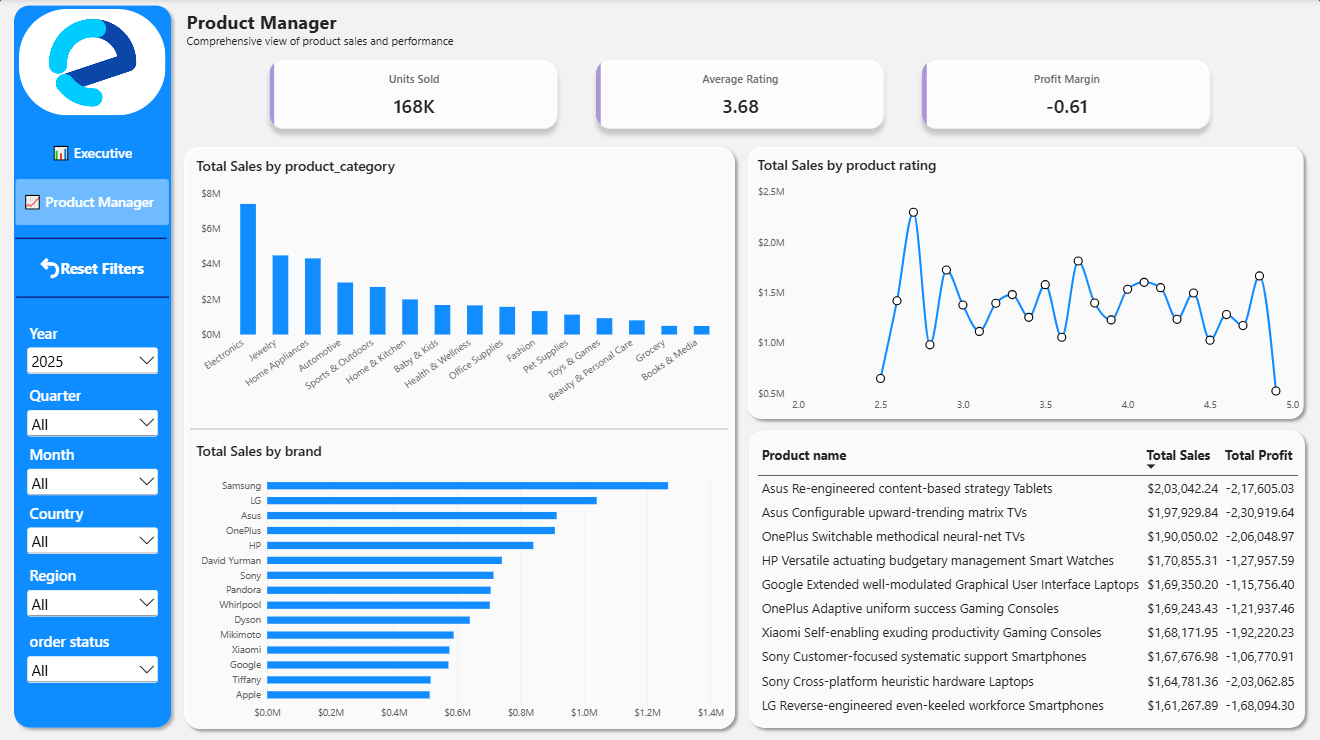

The dashboard page shown, as its layout file describes it:
{"tool":"powerbi","page":{"name":"Product Manager","canvas":[1920,1080],"ordinal":1},"visuals":[{"type":"shape","box":[1080.6,616.5,825.8,450.4],"z":0},{"type":"shape","box":[1078.3,204.7,825.8,414],"z":1000},{"type":"shape","box":[259.3,204.7,819,864.5],"z":2000},{"type":"shape","box":[12.9,0,246.6,1067.5],"z":3000},{"type":"slicer","fields":{"Values":["Calender.Quarter"]},"box":[36.3,561.3,199.7,79.9],"z":4000},{"type":"slicer","fields":{"Values":["Calender.Year"]},"box":[36.3,470.5,199.7,85.3],"z":5000},{"type":"slicer","fields":{"Values":["customer_master.customer_country"]},"box":[36.3,732,199.7,85.3],"z":6000},{"type":"slicer","fields":{"Values":["Calender.Month"]},"box":[36.3,646.6,199.7,79.9],"z":7000},{"type":"slicer","fields":{"Values":["customer_master.region"]},"box":[36.3,822.7,199.7,89],"z":8000},{"type":"slicer","fields":{"Values":["ecommerce_sales_customer_analytics_150k.order_status"]},"box":[36.3,919,199.7,90.8],"z":9000},{"type":"textbox","box":[273,13.6,739.3,59.1],"z":10000},{"type":"shape","box":[25.4,419.4,221.5,27.2],"z":11000},{"type":"actionButton","box":[20.9,359,229.6,64.7],"z":12000},{"type":"shape","box":[23.6,332.3,219.7,30.9],"z":13000},{"type":"actionButton","title":"📈 Product Manager","box":[23.6,261.5,223.3,67.2],"z":14000},{"type":"actionButton","title":"📊 Executive","box":[23.6,196.1,223.3,56.3],"z":15000},{"type":"image","box":[29.2,14.6,212.9,154.4],"z":16000},{"type":"columnChart","fields":{"Y":["_Measure Table.Total Sales"],"Category":["product_catalog.product_category"]},"box":[270.5,214.3,797.1,406.7],"z":17000},{"type":"barChart","fields":{"Category":["product_catalog.brand"],"Y":["_Measure Table.Total Sales"]},"box":[270.5,628.2,798.9,439.4],"z":18000},{"type":"lineChart","fields":{"Category":["product_catalog.product_rating"],"Y":["_Measure Table.Total Sales"]},"box":[1085.1,211.6,819,407.2],"z":19000},{"type":"cardVisual","fields":{"Data":["_Measure Table.Units Sold","_Measure Table.Average Rating","_Measure Table.Profit Margin %"]},"box":[377.6,72.8,1399.1,131.9],"z":20000},{"type":"tableEx","fields":{"Values":["product_catalog.product_name","_Measure Table.Total Sales","_Measure Table.Total Profit"]},"box":[1085,630,819,439],"z":21000},{"type":"shape","box":[277.8,597.4,780.8,54.5],"z":22000}]}

Visuals, with their boxes on the page's 1920x1080 design canvas (x1, y1, x2, y2). These are canvas units, not pixel positions in the 1320x740 screenshot, which may show the page scaled, cropped or inside an application window:
shape: locate(1081, 616, 1906, 1067)
shape: locate(1078, 205, 1904, 619)
shape: locate(259, 205, 1078, 1069)
shape: locate(13, 0, 260, 1068)
slicer - Calender.Quarter: locate(36, 561, 236, 641)
slicer - Calender.Year: locate(36, 470, 236, 556)
slicer - customer_master.customer_country: locate(36, 732, 236, 817)
slicer - Calender.Month: locate(36, 647, 236, 726)
slicer - customer_master.region: locate(36, 823, 236, 912)
slicer - ecommerce_sales_customer_analytics_150k.order_status: locate(36, 919, 236, 1010)
textbox: locate(273, 14, 1012, 73)
shape: locate(25, 419, 247, 447)
actionButton: locate(21, 359, 250, 424)
shape: locate(24, 332, 243, 363)
"📈 Product Manager" actionButton: locate(24, 262, 247, 329)
"📊 Executive" actionButton: locate(24, 196, 247, 252)
image: locate(29, 15, 242, 169)
columnChart - _Measure Table.Total Sales x product_catalog.product_category: locate(270, 214, 1068, 621)
barChart - product_catalog.brand x _Measure Table.Total Sales: locate(270, 628, 1069, 1068)
lineChart - product_catalog.product_rating x _Measure Table.Total Sales: locate(1085, 212, 1904, 619)
cardVisual - _Measure Table.Units Sold x _Measure Table.Average Rating: locate(378, 73, 1777, 205)
tableEx - product_catalog.product_name x _Measure Table.Total Sales: locate(1085, 630, 1904, 1069)
shape: locate(278, 597, 1059, 652)
